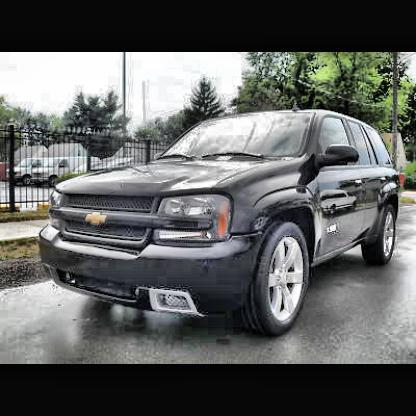Chevrolet TrailBlazer SS 2009: (40, 99, 404, 341)
